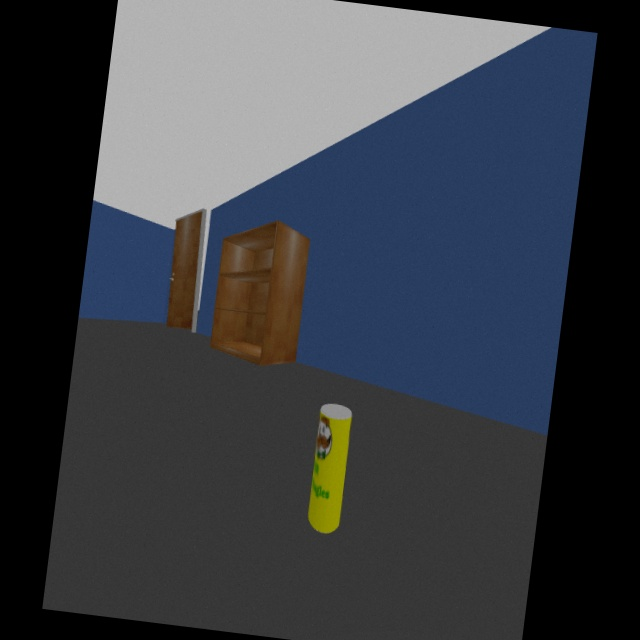chipsdose_gelb: (308, 403, 352, 535)
